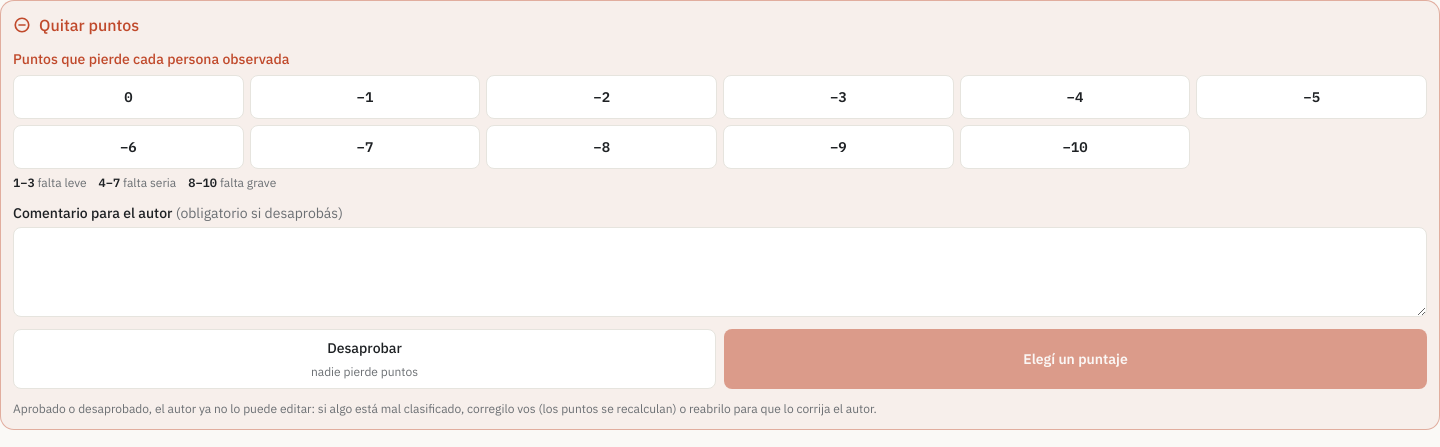
Scenario: CalificarReporte › la inspección la aprueba su autora y el puntaje se resta
Expected: the text "Quitar puntos" is shown, [13, 15, 139, 35]
Click the radio button named "menos 6" at (128,147), box [13, 125, 244, 169]
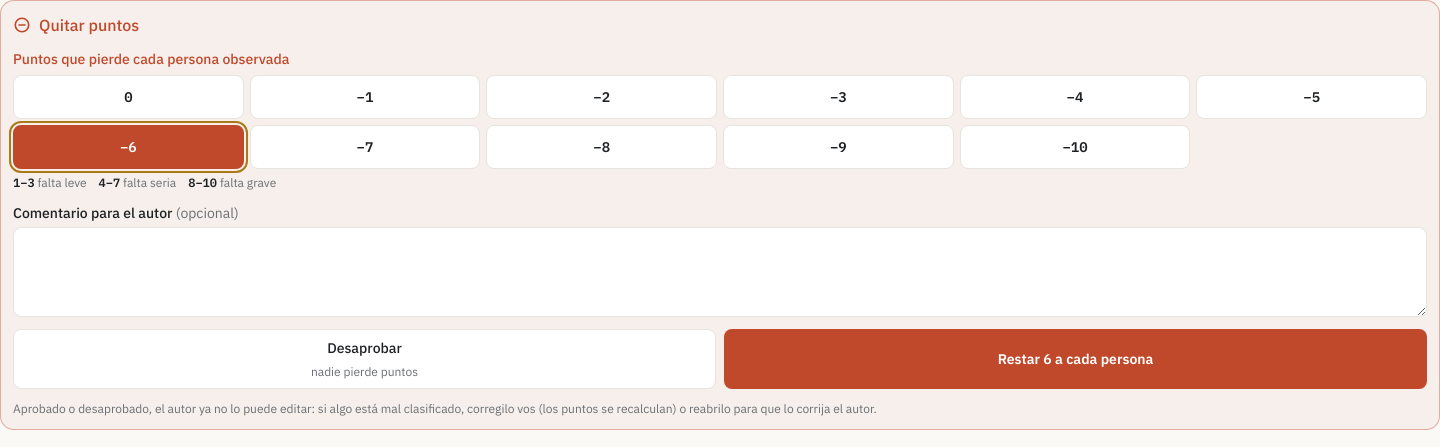
Expected: the button "Restar 6 a cada persona" is enabled, [724, 329, 1427, 389]
